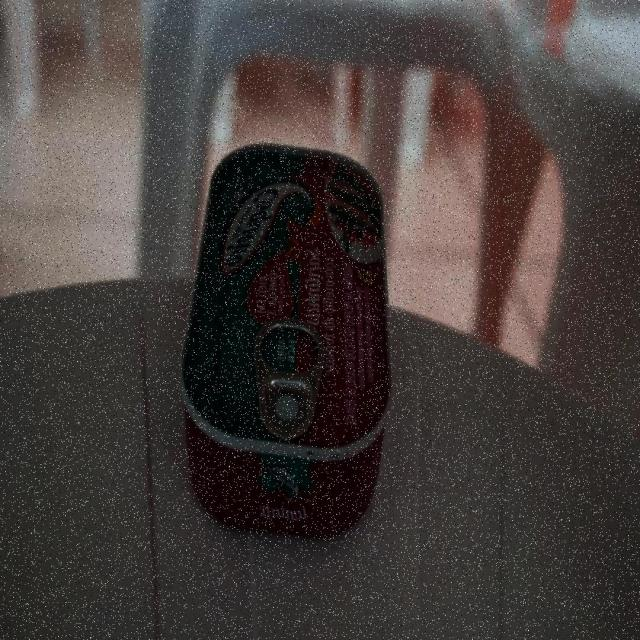TunaCan: (181, 143, 391, 541)
